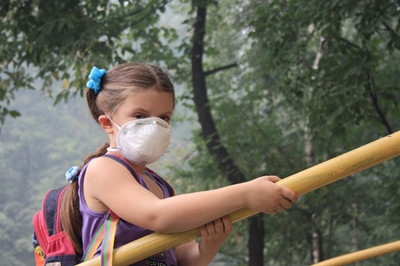face_mask: (116, 90, 172, 163)
